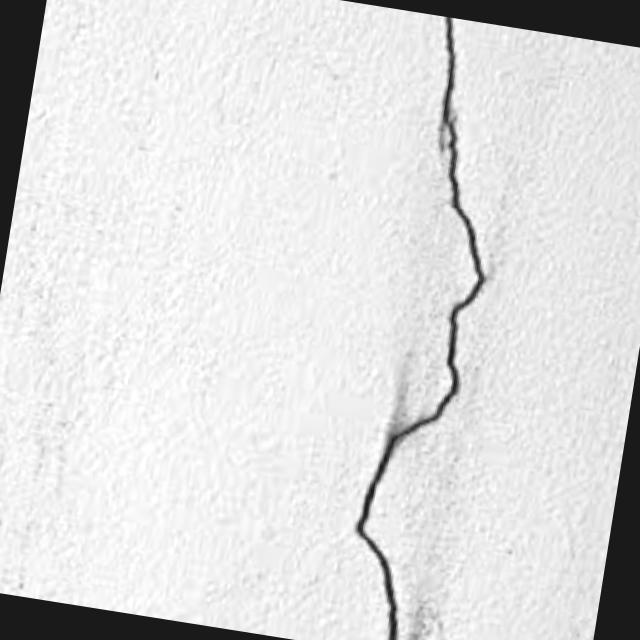crack: (330, 15, 528, 640)
